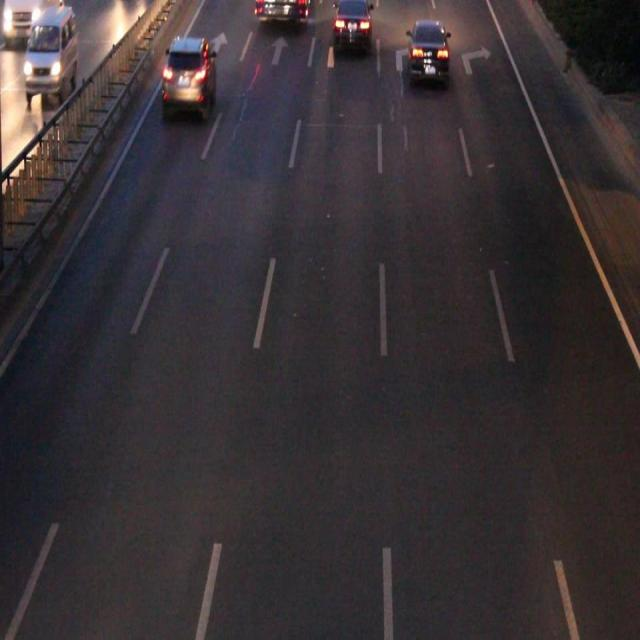car: (164, 38, 215, 108), (407, 23, 447, 80), (332, 1, 370, 46)
van: (255, 1, 309, 23)
